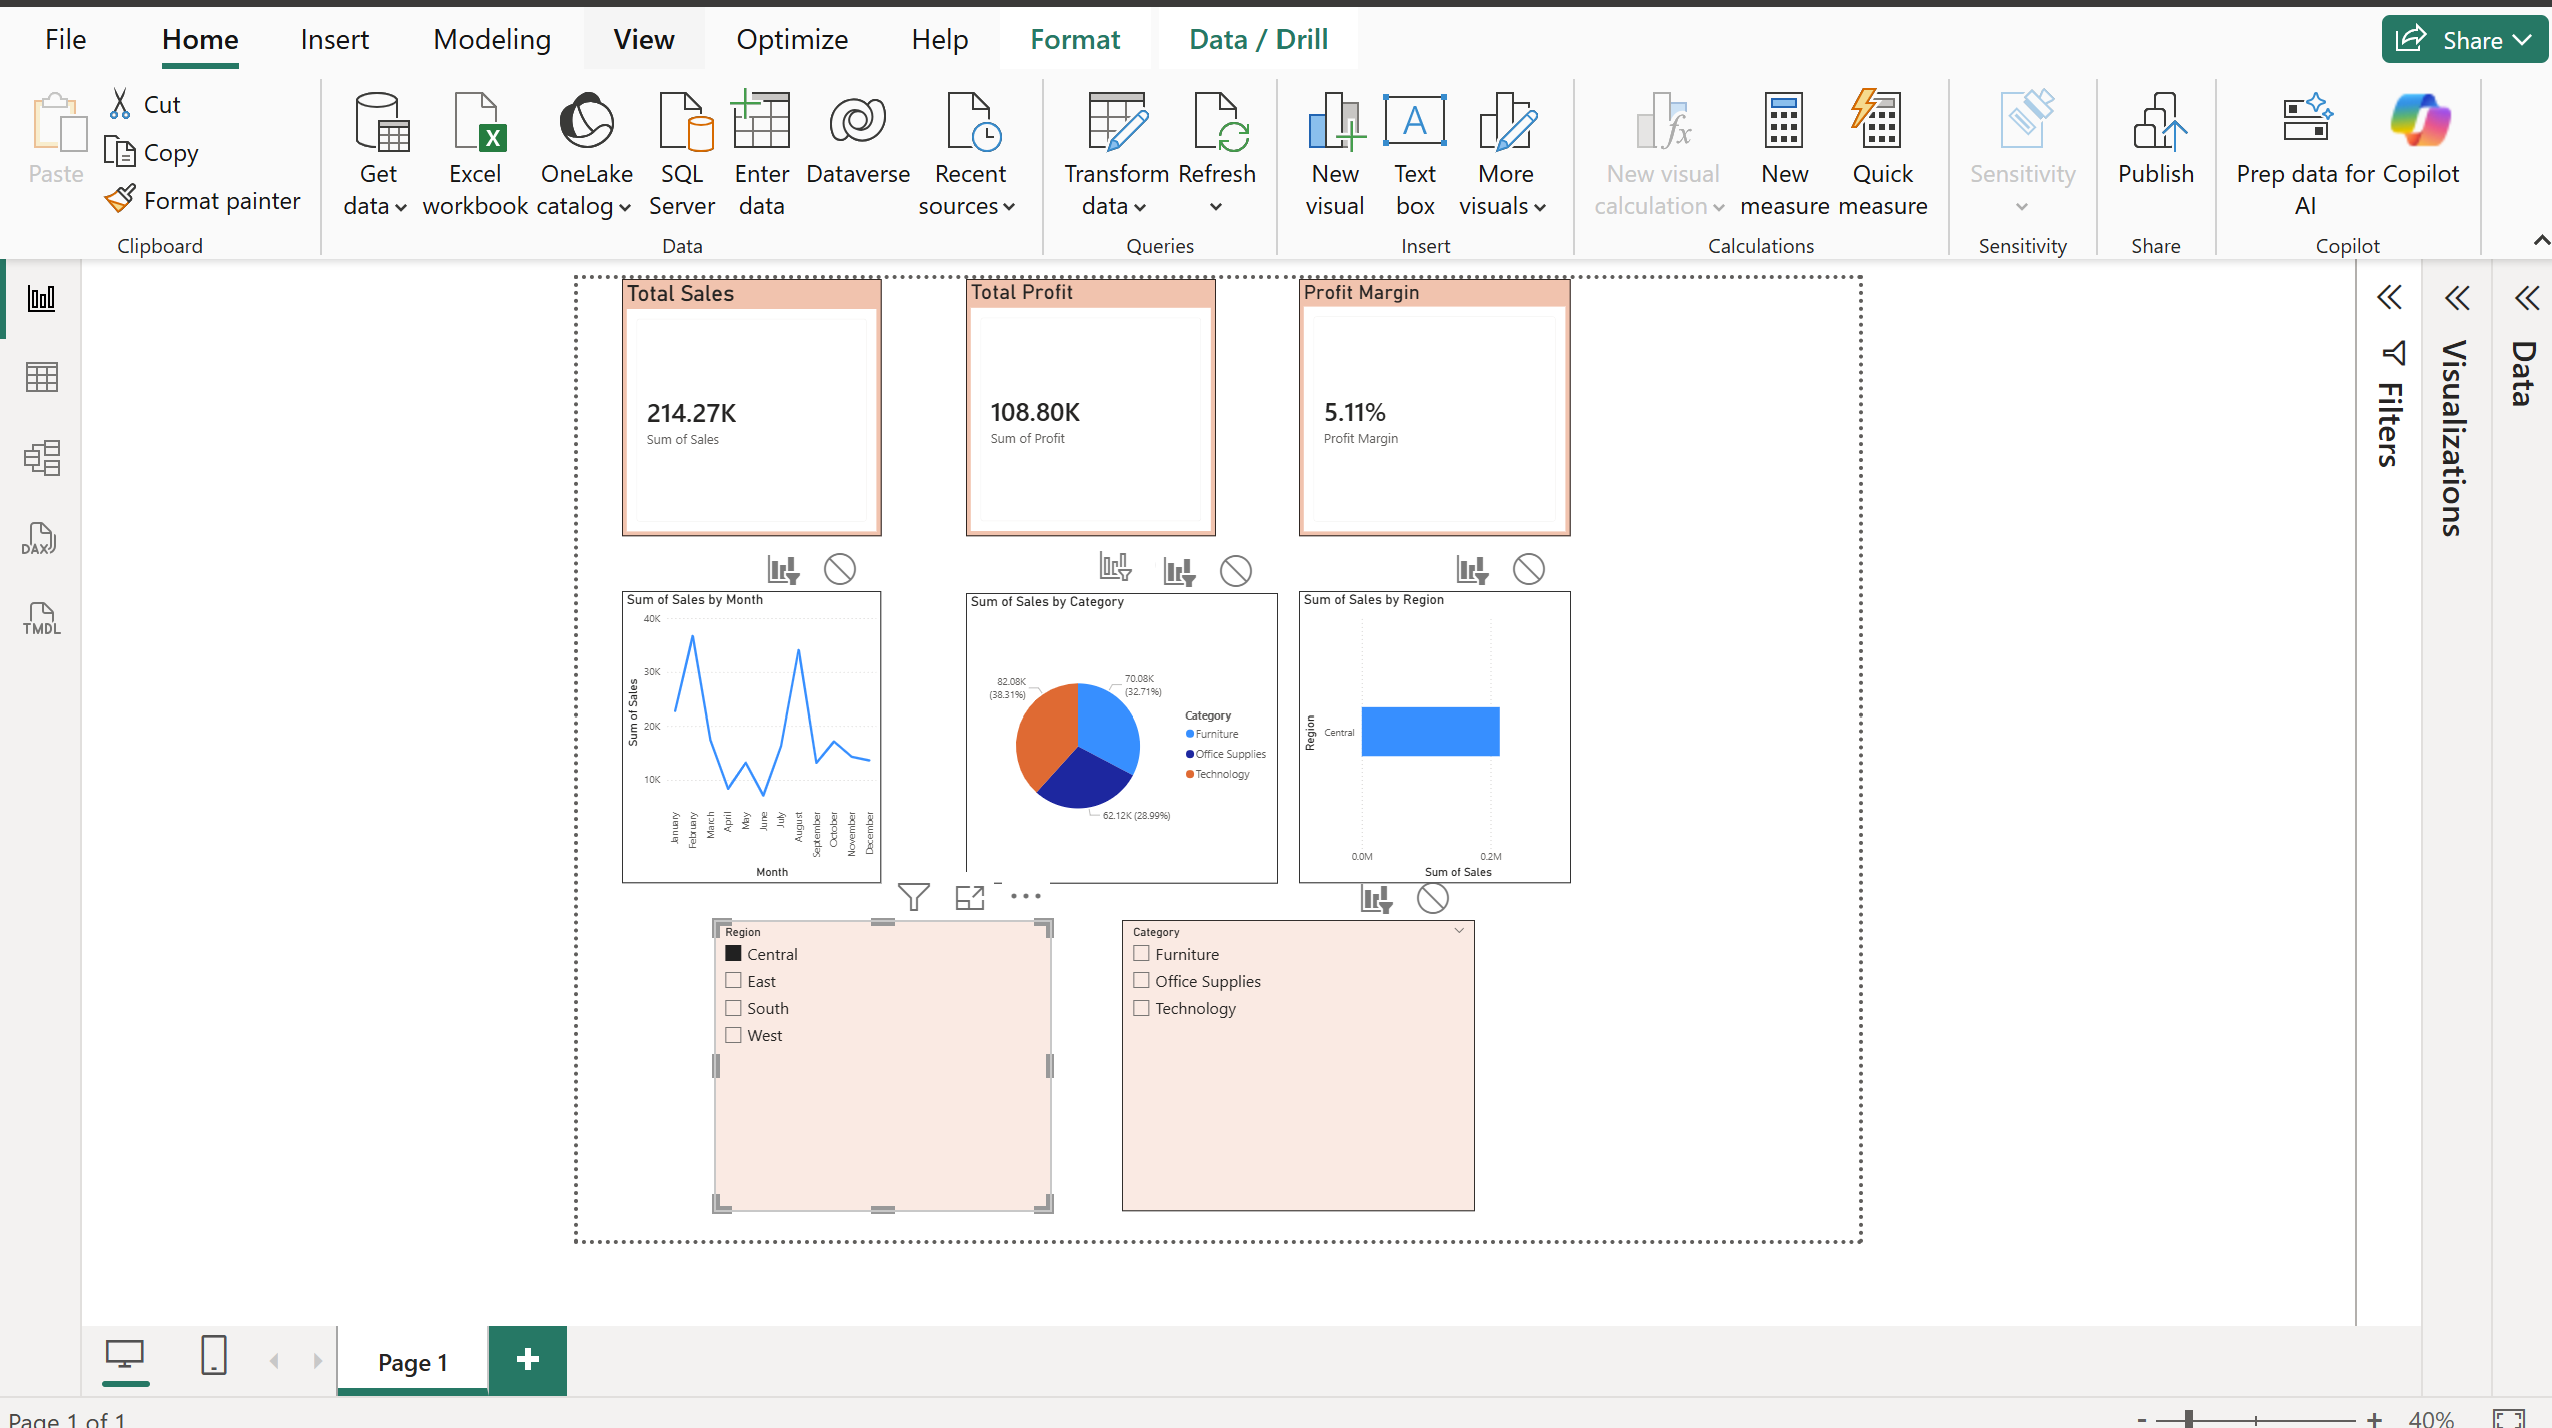

This screenshot's page, from the dashboard's own definition file:
{"tool":"powerbi","page":{"name":"Page 1","canvas":[1600,1200],"ordinal":0},"visuals":[{"type":"cardVisual","title":"Total Sales","fields":{"Data":["Sum(Sample - Superstore.Sales)"]},"box":[56.1,0,324.5,321.5],"z":0},{"type":"cardVisual","title":"Total Profit","fields":{"Data":["Sum(Sample - Superstore.Profit)"]},"box":[483.8,0,312.4,321.5],"z":1000},{"type":"pieChart","fields":{"Y":["Sum(Sample - Superstore.Sales)"],"Series":["Sample - Superstore.Category"]},"box":[484,392,390,362],"z":2000},{"type":"slicer","fields":{"Values":["Sample - Superstore.Region"]},"box":[170,800,422,364],"z":3000},{"type":"slicer","fields":{"Values":["Sample - Superstore.Category"]},"box":[680,800,440,364],"z":4000},{"type":"cardVisual","title":"Profit Margin","fields":{"Data":["Sample - Superstore.Profit Margin"]},"box":[899.3,0,339.7,321.5],"z":5000},{"type":"barChart","fields":{"Category":["Sample - Superstore.Region"],"Y":["Sum(Sample - Superstore.Sales)"]},"box":[900,390,340,364],"z":6000},{"type":"lineChart","fields":{"Category":["Sample - Superstore.Order_Date.Variation.Date Hierarchy.Month"],"Y":["Sum(Sample - Superstore.Sales)"]},"box":[56,390,324,364],"z":6001}]}

Visuals, with their boxes on the page's 1600x1200 design canvas (x1, y1, x2, y2). These are canvas units, not pixel positions in the 2552x1428 screenshot, which may show the page scaled, cropped or inside an application window:
"Total Sales" cardVisual: (x1=56, y1=0, x2=381, y2=322)
"Total Profit" cardVisual: (x1=484, y1=0, x2=796, y2=322)
pieChart - Sum(Sample - Superstore.Sales) x Sample - Superstore.Category: (x1=484, y1=392, x2=874, y2=754)
slicer - Sample - Superstore.Region: (x1=170, y1=800, x2=592, y2=1164)
slicer - Sample - Superstore.Category: (x1=680, y1=800, x2=1120, y2=1164)
"Profit Margin" cardVisual: (x1=899, y1=0, x2=1239, y2=322)
barChart - Sample - Superstore.Region x Sum(Sample - Superstore.Sales): (x1=900, y1=390, x2=1240, y2=754)
lineChart - Sample - Superstore.Order_Date.Variation.Date Hierarchy.Month x Sum(Sample - Superstore.Sales): (x1=56, y1=390, x2=380, y2=754)
